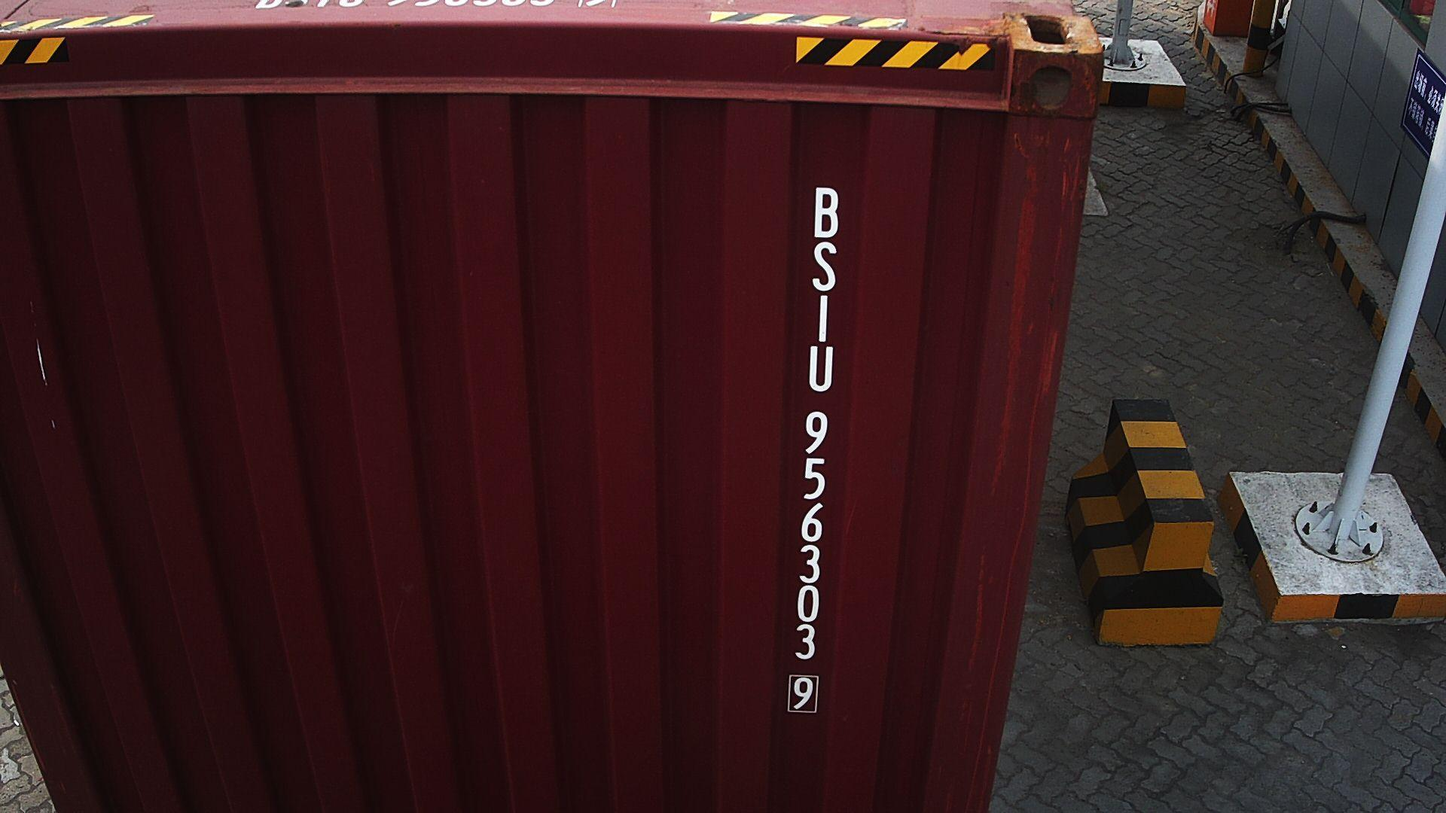container-numbers: (779, 181, 854, 719)
